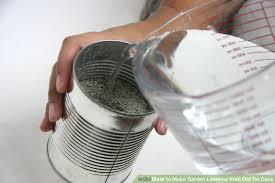Tin: (48, 37, 152, 183)
